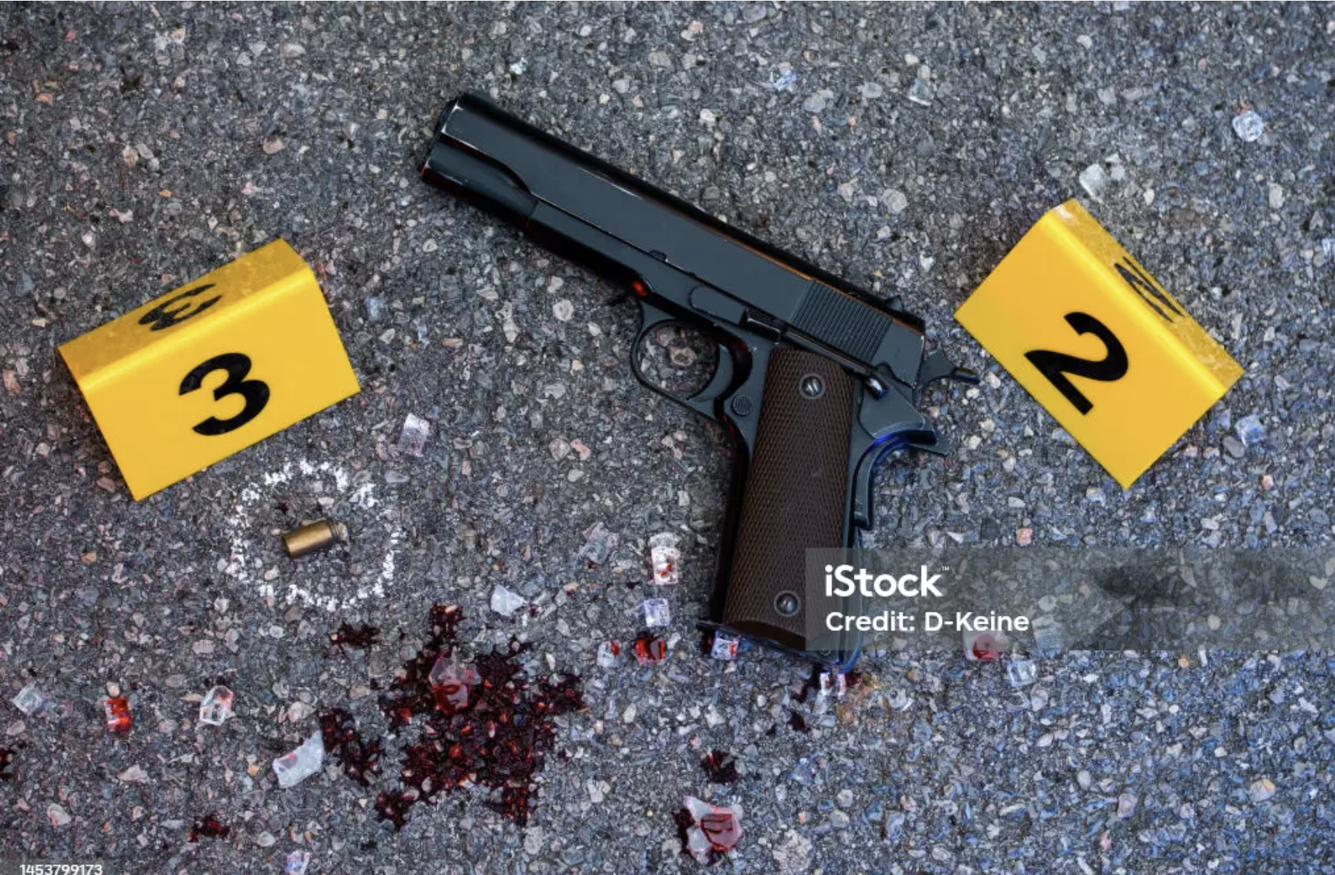gun_002: (409, 79, 990, 676)
